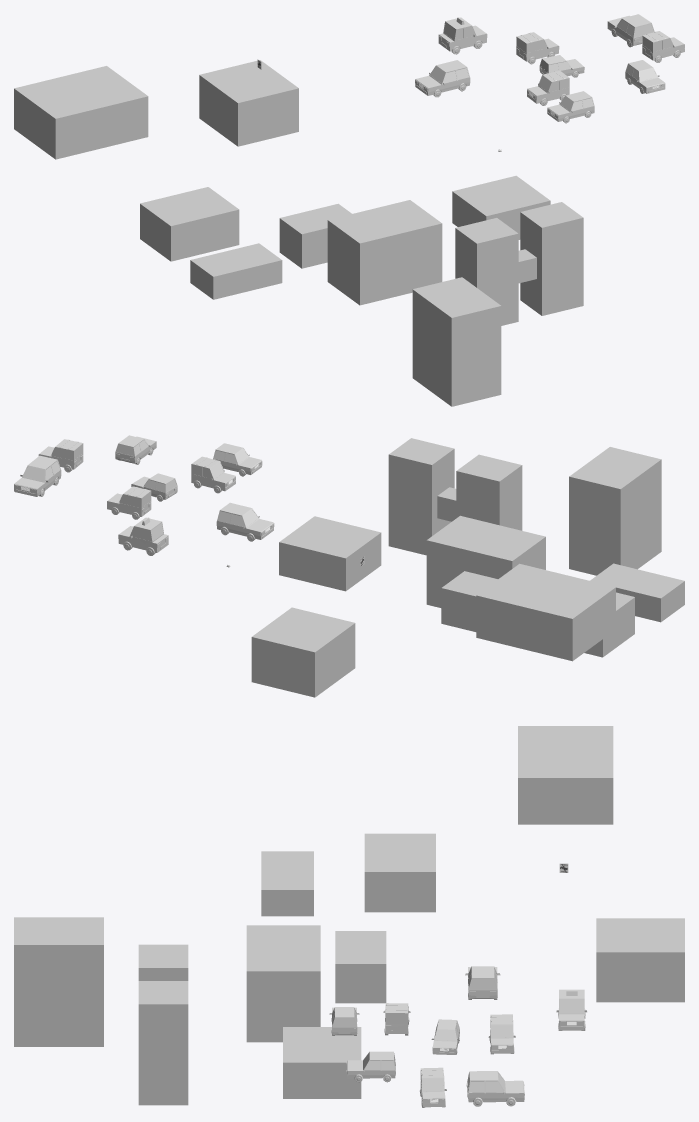
Rendered from 3d_print.fbx.
3 renders of one model, top to bottom at view 1: azimuth 30°, elevation 25°; view 2: azimuth 150°, elevation 25°; view 3: azimuth 270°, elevation 25°, orthographic. The views are drawn at different scales.
Visible parts, largest first — view 1: Cube.010, Cube.005, Cube, Cube.001, Cube.004, Cube.002, Cube.007, Cube.003, Cube.009, Cube.011, Macchina_02.005, Taxi.001 (+7 smaller); view 2: Cube.010, Cube, Cube.001, Cube.005, Cube.004, Cube.009, Cube.007, Cube.003, Cube.011, Macchina_02.005, Macchina_02.006, Cube.002 (+8 smaller); view 3: Cube.010, Cube, Cube.005, Cube.001, Cube.004, Cube.002, Cube.009, Cube.011, Cube.003, Cube.007, Macchina_02.006, Macchina_03.001 (+7 smaller).
Part boxes in pixels (left/top/right/bottom): Cube.010: left=412, top=277, right=501, bottom=406; Cube.005: left=327, top=200, right=442, bottom=305; Cube: left=14, top=66, right=148, bottom=159; Cube.001: left=199, top=60, right=298, bottom=146; Cube.004: left=520, top=202, right=583, bottom=315; Cube.002: left=140, top=187, right=239, bottom=261; Cube.007: left=455, top=218, right=518, bottom=325; Cube.003: left=190, top=243, right=282, bottom=299; Cube.009: left=452, top=175, right=550, bottom=239; Cube.011: left=279, top=203, right=351, bottom=268; Macchina_02.005: left=415, top=60, right=470, bottom=97; Taxi.001: left=438, top=17, right=487, bottom=54; Cube.010: left=569, top=447, right=661, bottom=575; Cube: left=476, top=563, right=615, bottom=661; Cube.001: left=251, top=607, right=355, bottom=697; Cube.005: left=426, top=515, right=545, bottom=607; Cube.004: left=388, top=438, right=454, bottom=555; Cube.009: left=279, top=516, right=381, bottom=591; Cube.007: left=456, top=454, right=522, bottom=530; Cube.003: left=590, top=563, right=684, bottom=622; Cube.011: left=441, top=571, right=497, bottom=631; Macchina_02.005: left=216, top=502, right=274, bottom=541; Macchina_02.006: left=14, top=455, right=61, bottom=496; Cube.002: left=584, top=592, right=634, bottom=657; Cube.010: left=14, top=917, right=103, bottom=1046; Cube: left=518, top=726, right=613, bottom=824; Cube.005: left=246, top=925, right=320, bottom=1042; Cube.001: left=596, top=918, right=684, bottom=1002; Cube.004: left=138, top=981, right=188, bottom=1105; Cube.002: left=364, top=833, right=435, bottom=912; Cube.009: left=283, top=1027, right=361, bottom=1098; Cube.011: left=335, top=931, right=386, bottom=1003; Cube.003: left=261, top=851, right=313, bottom=916; Cube.007: left=138, top=944, right=188, bottom=980; Macchina_02.006: left=466, top=1071, right=524, bottom=1106; Macchina_03.001: left=346, top=1051, right=395, bottom=1082.
Size of the model in its own units: 30697 by 8474 by 26481.
